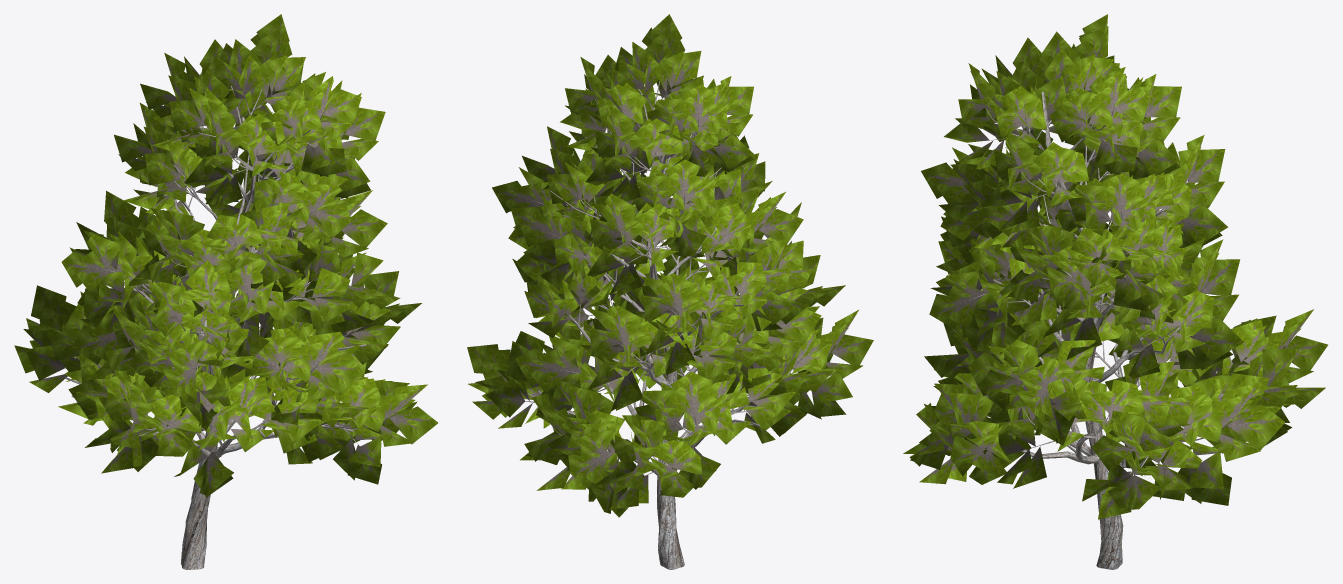
3 renders of one model, left to right at view 1: azimuth 30°, elevation 25°; view 2: azimuth 150°, elevation 25°; view 3: azimuth 270°, elevation 25°, orthographic. The views are drawn at different scales.
Visible parts, largest first — view 1: bark01, beech leaf; view 2: bark01, beech leaf; view 3: bark01, beech leaf.
Boxes of the visible parts, box(x1,y1,x2,y2) form: bark01: box(14, 14, 437, 496); beech leaf: box(65, 86, 396, 569); bark01: box(467, 14, 873, 517); beech leaf: box(525, 81, 836, 569); bark01: box(903, 14, 1327, 519); beech leaf: box(968, 88, 1287, 569).
Size of the model in its own units: 61.26 by 86.19 by 61.58.
2 materials, 2 textured.
